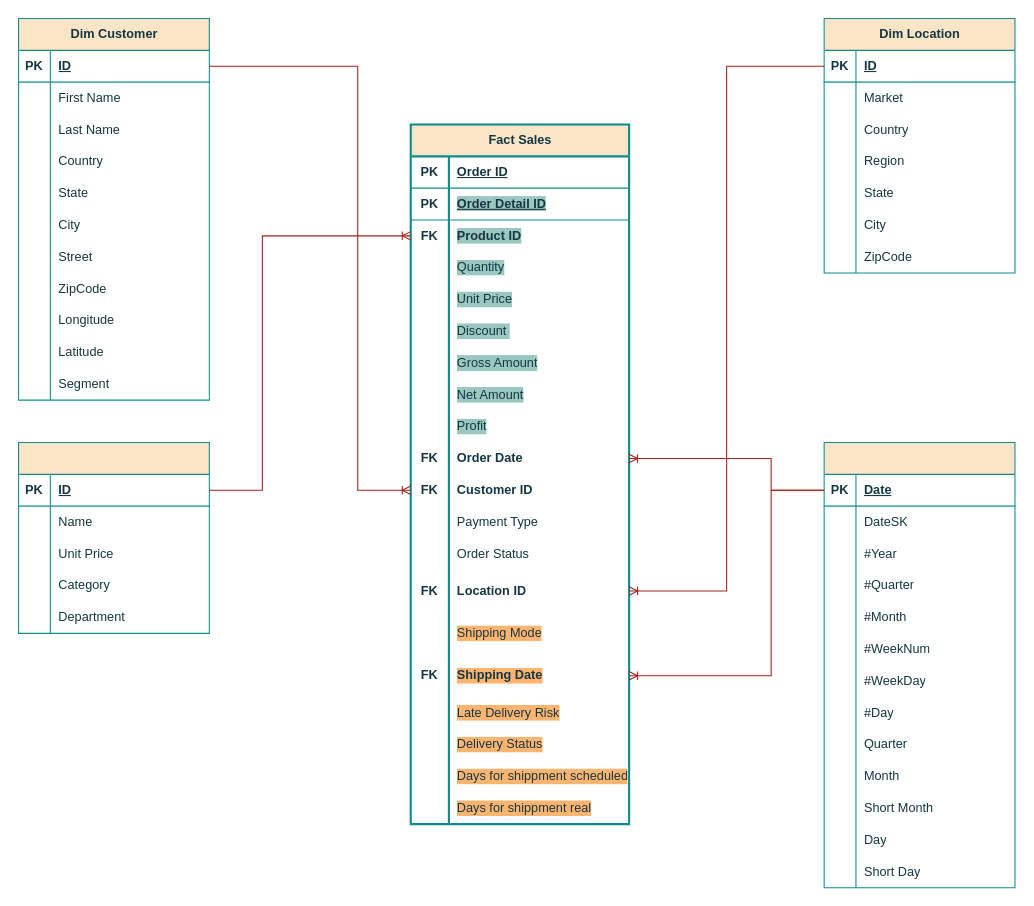
Image size: 1034x906. Some labels were removed from this diagram. Here are the shapes that lost their labels. From the top down, the box of each, then its label:
(17, 441, 209, 633): Dim Product
(823, 441, 1015, 888): Dim Calendar
